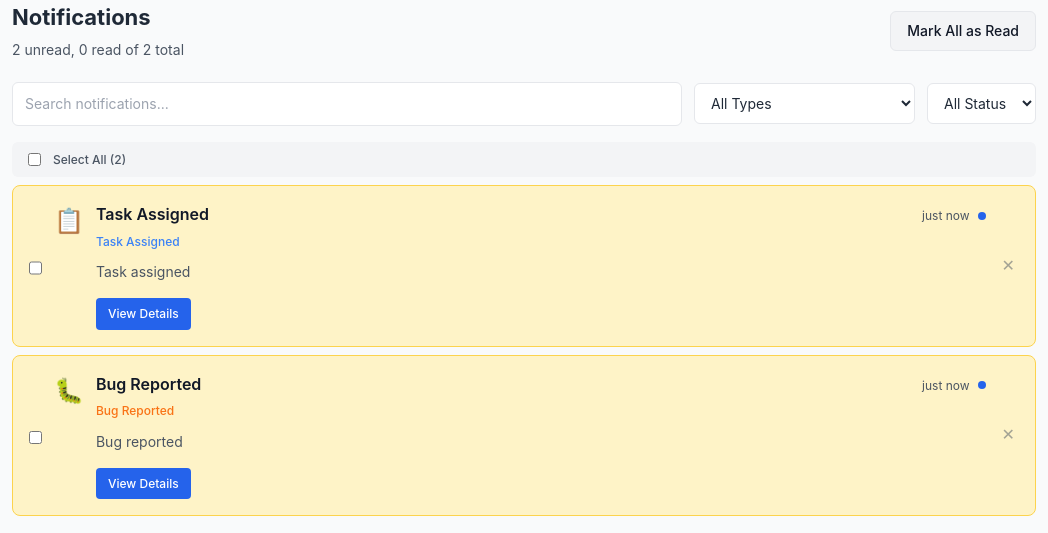
NotificationsView › filters notifications by search
The width and height of the screenshot is (1048, 533).
Step 1. Type "nonexistent" into the field with placeholder "Search notifications..." → (347, 104), box [12,82,682,126]
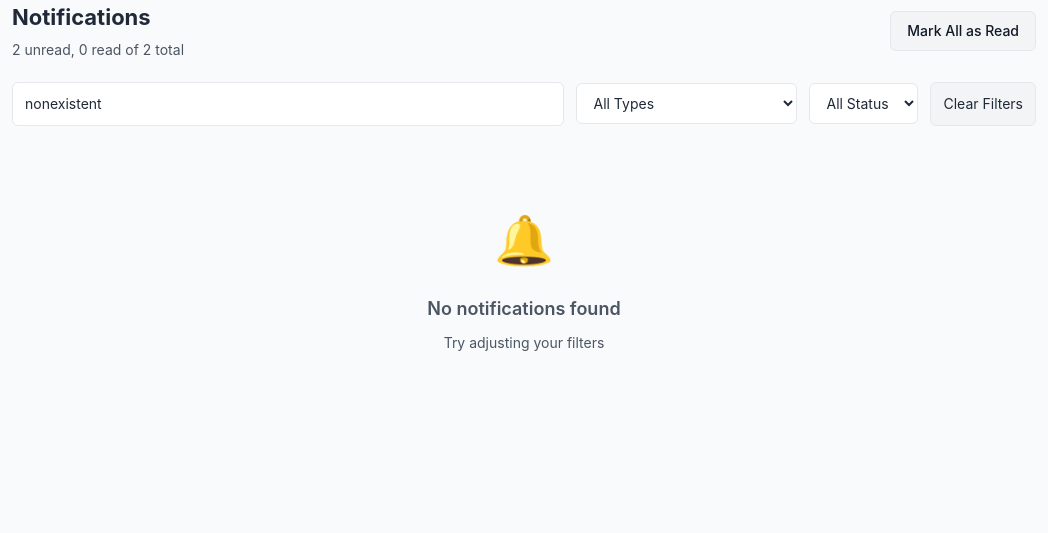
Now the heading "No notifications found" is shown, box [427,298,621,319]
